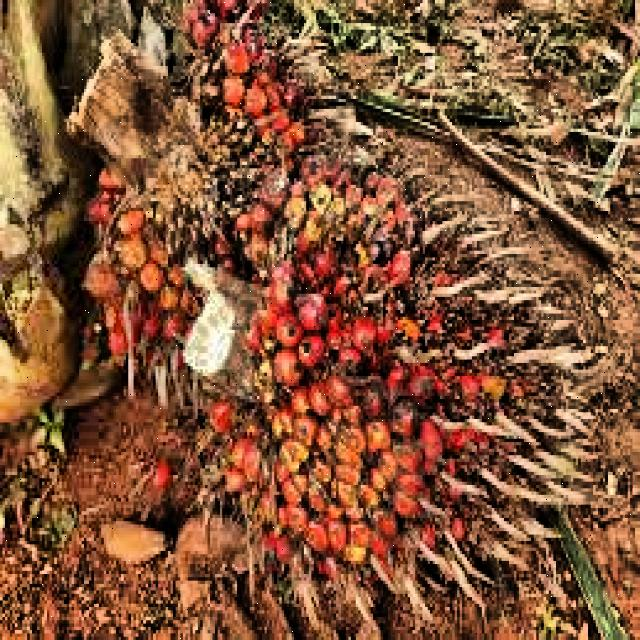FFB: (189, 163, 582, 582), (93, 41, 359, 389)
